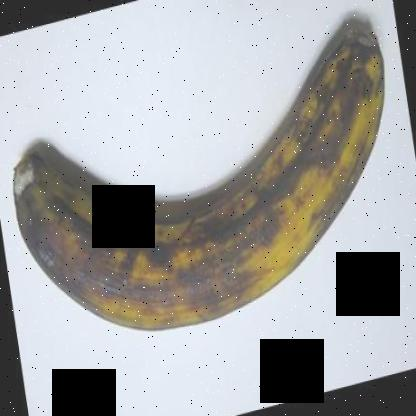overripe: (0, 16, 399, 334)
rotten: (0, 138, 88, 266)
